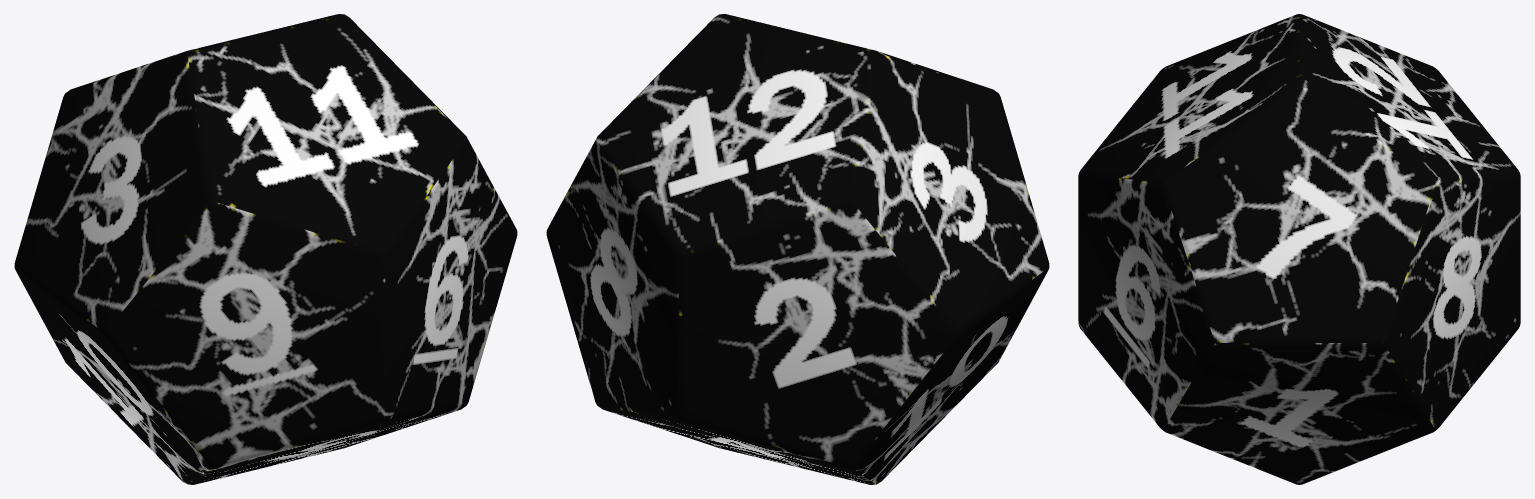
The picture shows the model from 3 angles, left to right: view 1: azimuth 30°, elevation 25°; view 2: azimuth 150°, elevation 25°; view 3: azimuth 270°, elevation 25°; orthographic projection. The views are drawn at different scales.
Parts seen in each view (by area): view 1: 12White_12White_0; view 2: 12White_12White_0; view 3: 12White_12White_0.
Part boxes in pixels (<box>): 12White_12White_0: <box>14,14,517,484</box>; 12White_12White_0: <box>546,14,1049,484</box>; 12White_12White_0: <box>1078,14,1520,484</box>.
Size of the model in its own units: 1.85 by 1.85 by 1.85.
Materials: 1 (1 with a texture image).
